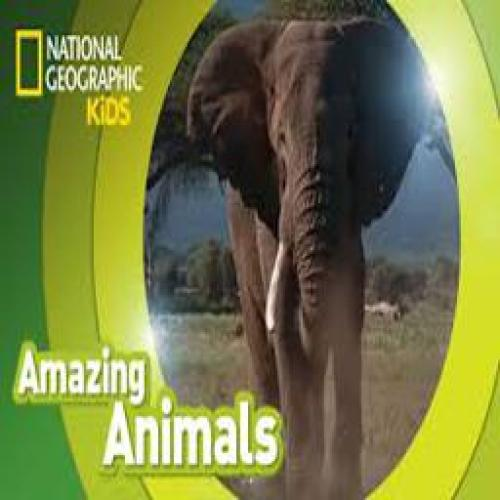african_elephant-endangered: (190, 21, 424, 483)
